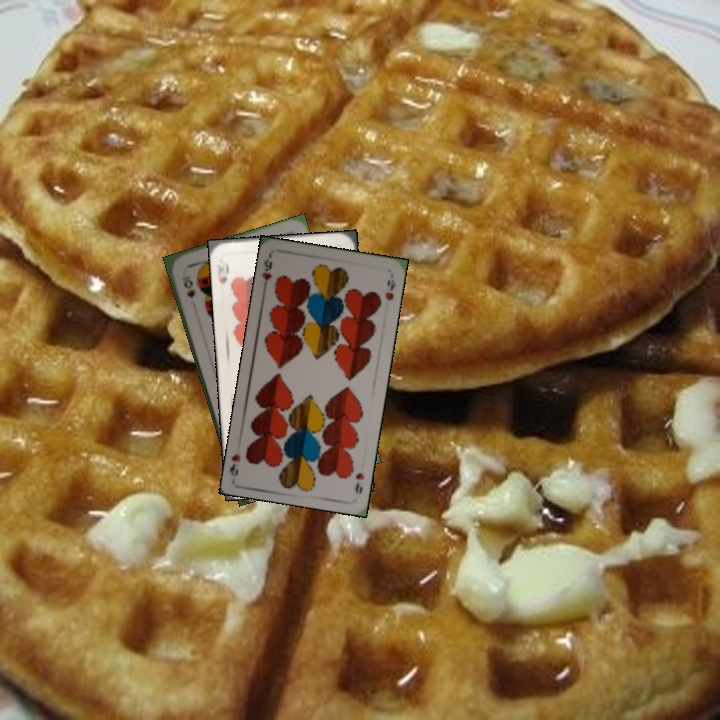H10: (214, 258, 231, 287)
H9: (258, 255, 275, 293), (351, 469, 367, 496)
S8: (178, 271, 198, 301)
